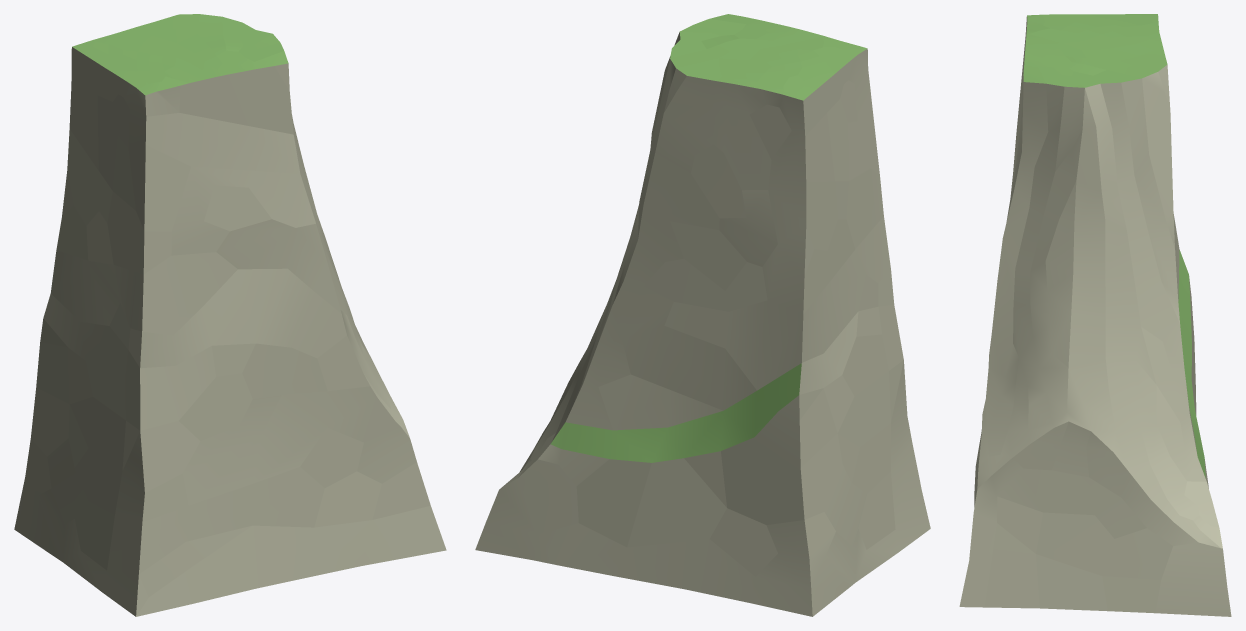
File: island_rocky_B_mini.fbx
3 views of the same model, side by side, from view 1: azimuth 30°, elevation 25°; view 2: azimuth 150°, elevation 25°; view 3: azimuth 270°, elevation 25° (orthographic). The views are drawn at different scales.
Visible parts, largest first — view 1: island_rocky_B_mini; view 2: island_rocky_B_mini; view 3: island_rocky_B_mini.
Part boxes in pixels (x1,y1,x2,y2): island_rocky_B_mini: (14,14,446,616); island_rocky_B_mini: (475,14,930,616); island_rocky_B_mini: (959,14,1231,616).
Size of the model in its own units: 1060 by 1552 by 812.
